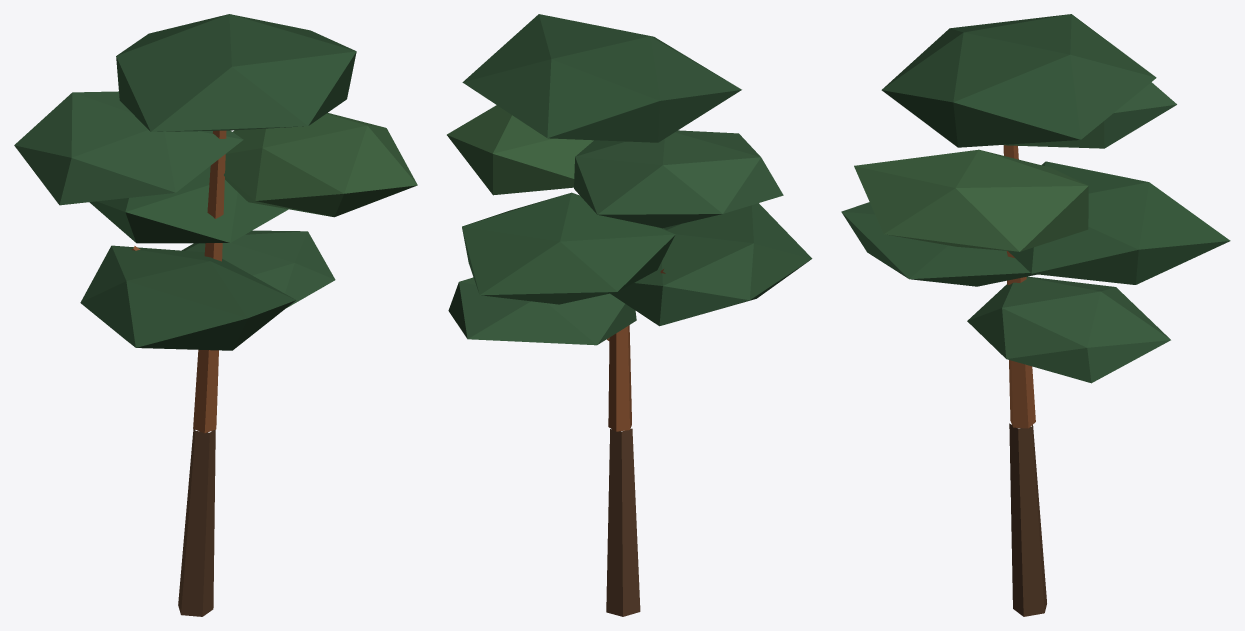
Rendered from scots_pine.glb.
The picture shows the model from 3 angles, left to right: view 1: azimuth 30°, elevation 25°; view 2: azimuth 150°, elevation 25°; view 3: azimuth 270°, elevation 25°; orthographic projection. The views are drawn at different scales.
Parts seen in each view (by area): view 1: scots_pine; view 2: scots_pine; view 3: scots_pine.
Part boxes in pixels (bbox=[...]): scots_pine: bbox=[14, 14, 417, 616]; scots_pine: bbox=[447, 14, 812, 616]; scots_pine: bbox=[841, 14, 1230, 616].
Size of the model in its own units: 6.9 by 11.12 by 6.75.
